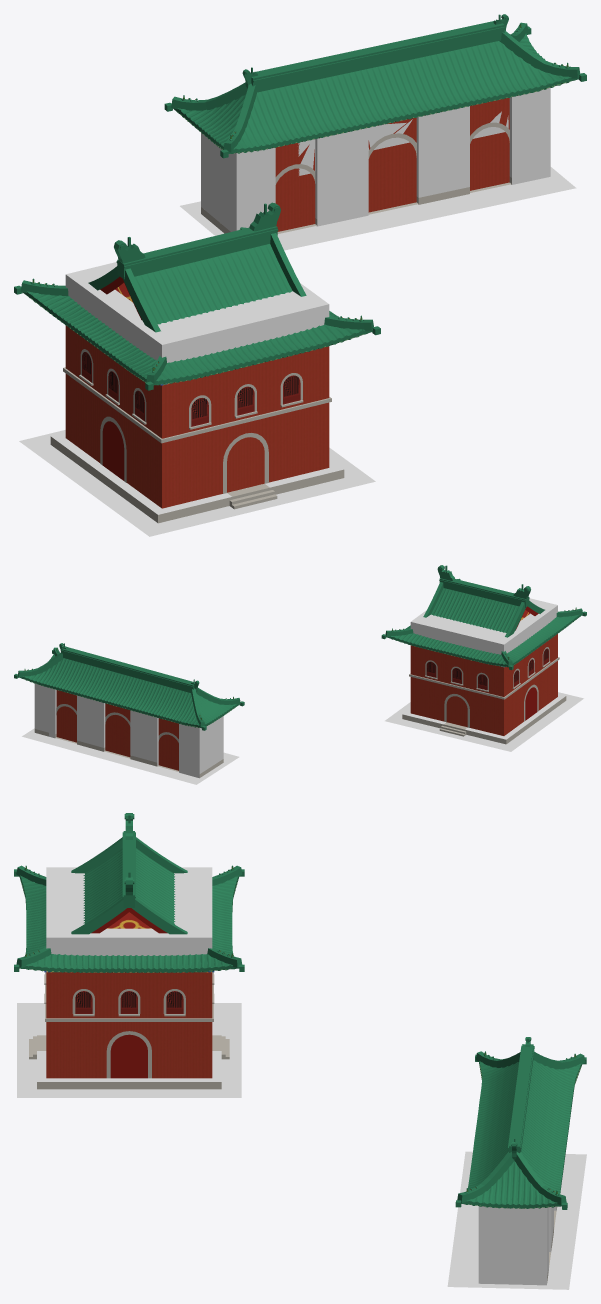
Rendered from yuetan.glb.
3 views of the same model, one above another, from view 1: azimuth 30°, elevation 25°; view 2: azimuth 150°, elevation 25°; view 3: azimuth 270°, elevation 25° (orthographic). The views are drawn at different scales.
Visible parts, largest first — view 1: Buildings, Massing, COL_tower_w, CLEAR_tower_clear, FOOTPRINT_gate, COL_gpier0, COL_gpier2, COL_gpier4, COL_gpier6, COL_tower_e, CLEAR_gate_clear, COL_tower_top (+2 smaller); view 2: Buildings, Massing, COL_gpier0, COL_tower_w, CLEAR_tower_clear, COL_gpier2, COL_gpier4, FOOTPRINT_gate, COL_gpier6, COL_tower_e, CLEAR_gate_clear, COL_tower_top (+1 smaller); view 3: Buildings, Massing, COL_tower_e, COL_gpier6, CLEAR_tower_clear, FOOTPRINT_gate, COL_tower_w, CLEAR_gate_clear, COL_tower_top, COL_base_e.
Boxes of the visible parts, x1=… form: Buildings: x1=14, y1=14, x2=586, y2=523; Massing: x1=27, y1=25, x2=571, y2=508; COL_tower_w: x1=65, y1=262, x2=226, y2=362; CLEAR_tower_clear: x1=19, y1=430, x2=375, y2=536; FOOTPRINT_gate: x1=180, y1=167, x2=576, y2=250; COL_gpier0: x1=201, y1=133, x2=275, y2=231; COL_gpier2: x1=315, y1=128, x2=368, y2=226; COL_gpier4: x1=416, y1=106, x2=469, y2=197; COL_gpier6: x1=509, y1=87, x2=550, y2=184; COL_tower_e: x1=243, y1=283, x2=329, y2=340; CLEAR_gate_clear: x1=189, y1=170, x2=561, y2=239; COL_tower_top: x1=205, y1=304, x2=264, y2=350; Buildings: x1=14, y1=565, x2=586, y2=777; Massing: x1=23, y1=580, x2=579, y2=770; COL_gpier0: x1=179, y1=716, x2=223, y2=778; COL_tower_w: x1=468, y1=598, x2=557, y2=654; CLEAR_tower_clear: x1=385, y1=692, x2=583, y2=751; COL_gpier2: x1=130, y1=710, x2=158, y2=765; COL_gpier4: x1=77, y1=695, x2=105, y2=747; FOOTPRINT_gate: x1=22, y1=728, x2=239, y2=784; COL_gpier6: x1=34, y1=683, x2=56, y2=738; COL_tower_e: x1=410, y1=610, x2=458, y2=642; CLEAR_gate_clear: x1=28, y1=729, x2=212, y2=781; COL_tower_top: x1=446, y1=621, x2=479, y2=647; Buildings: x1=14, y1=813, x2=586, y2=1282; Massing: x1=20, y1=848, x2=581, y2=1204; COL_tower_e: x1=46, y1=910, x2=212, y2=955; COL_gpier6: x1=478, y1=1206, x2=548, y2=1285; CLEAR_tower_clear: x1=17, y1=1003, x2=241, y2=1097; FOOTPRINT_gate: x1=447, y1=1151, x2=586, y2=1289; COL_tower_w: x1=46, y1=867, x2=212, y2=894; CLEAR_gate_clear: x1=469, y1=1155, x2=573, y2=1288; COL_tower_top: x1=46, y1=894, x2=212, y2=910; COL_base_e: x1=37, y1=1051, x2=221, y2=1081.
Size of the model in its own units: 52.08 by 17.05 by 42.84.
Materials: 7 (3 with a texture image).
